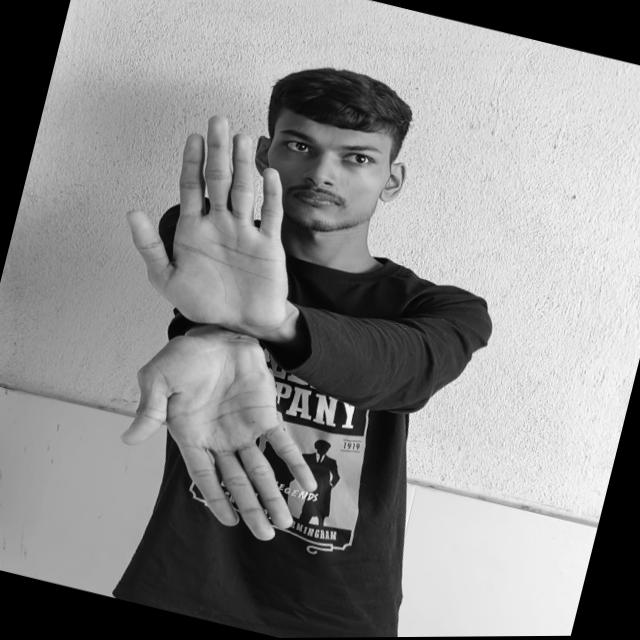Morning: (49, 97, 400, 569)
